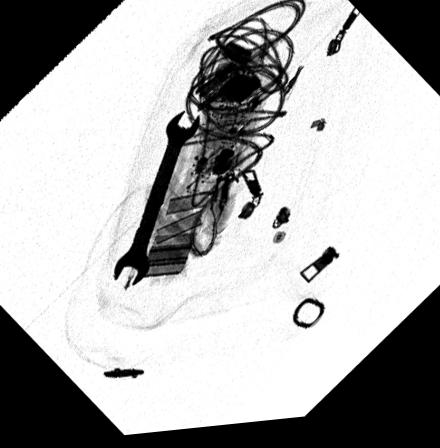Wrench: (109, 114, 200, 293)
